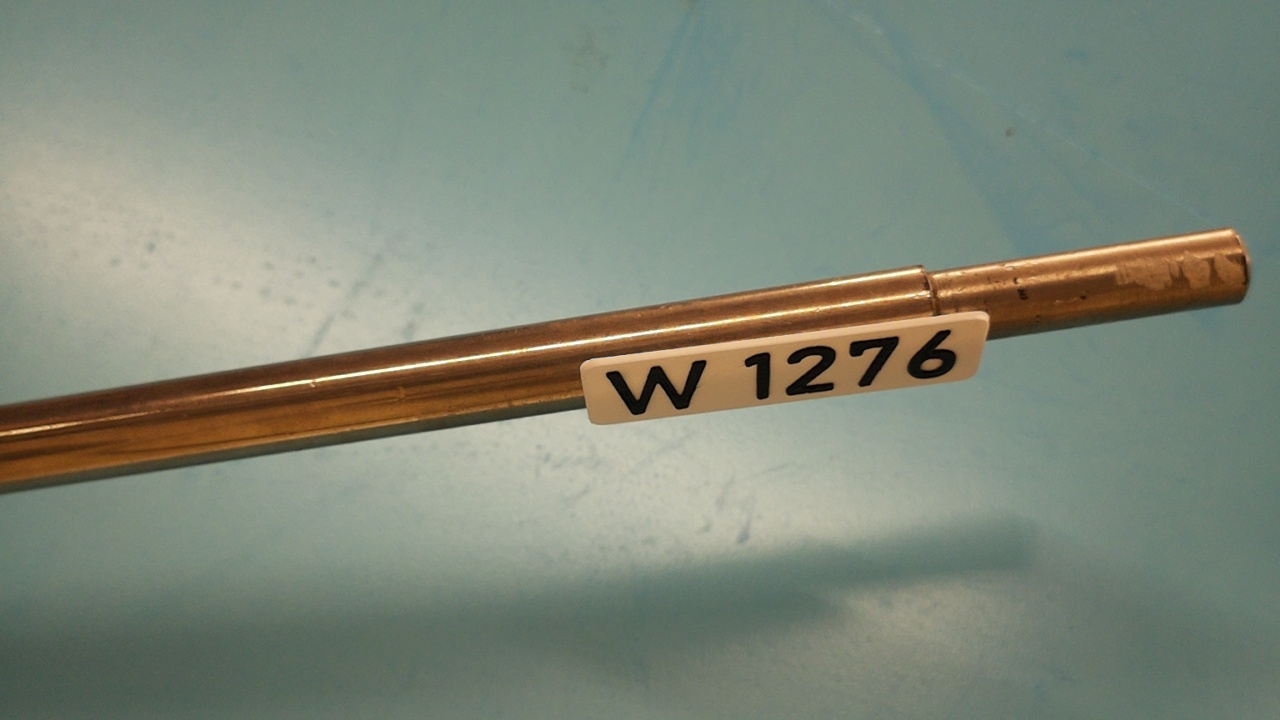license_plate: (579, 308, 992, 426)
